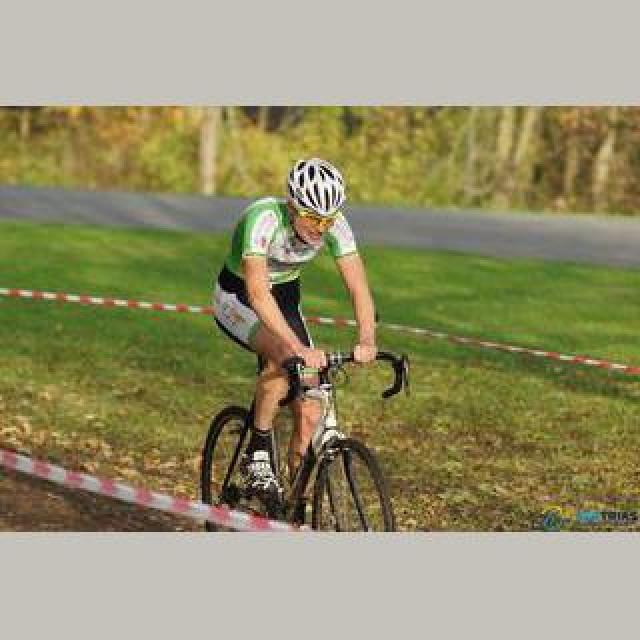MC-Bike: (212, 152, 386, 508)
Person: (201, 350, 401, 528)
